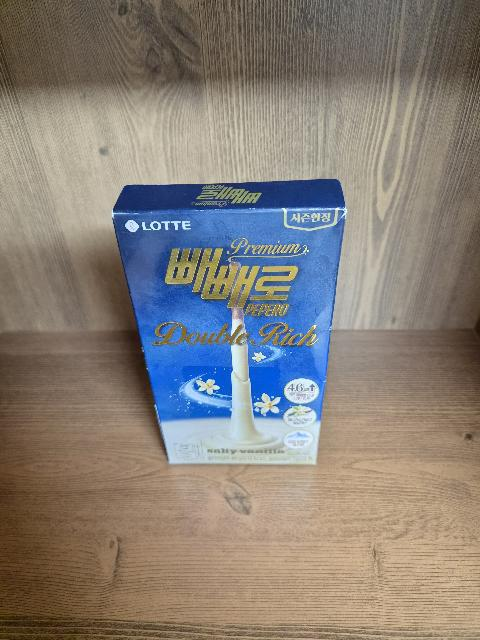pepero: (112, 179, 347, 466)
